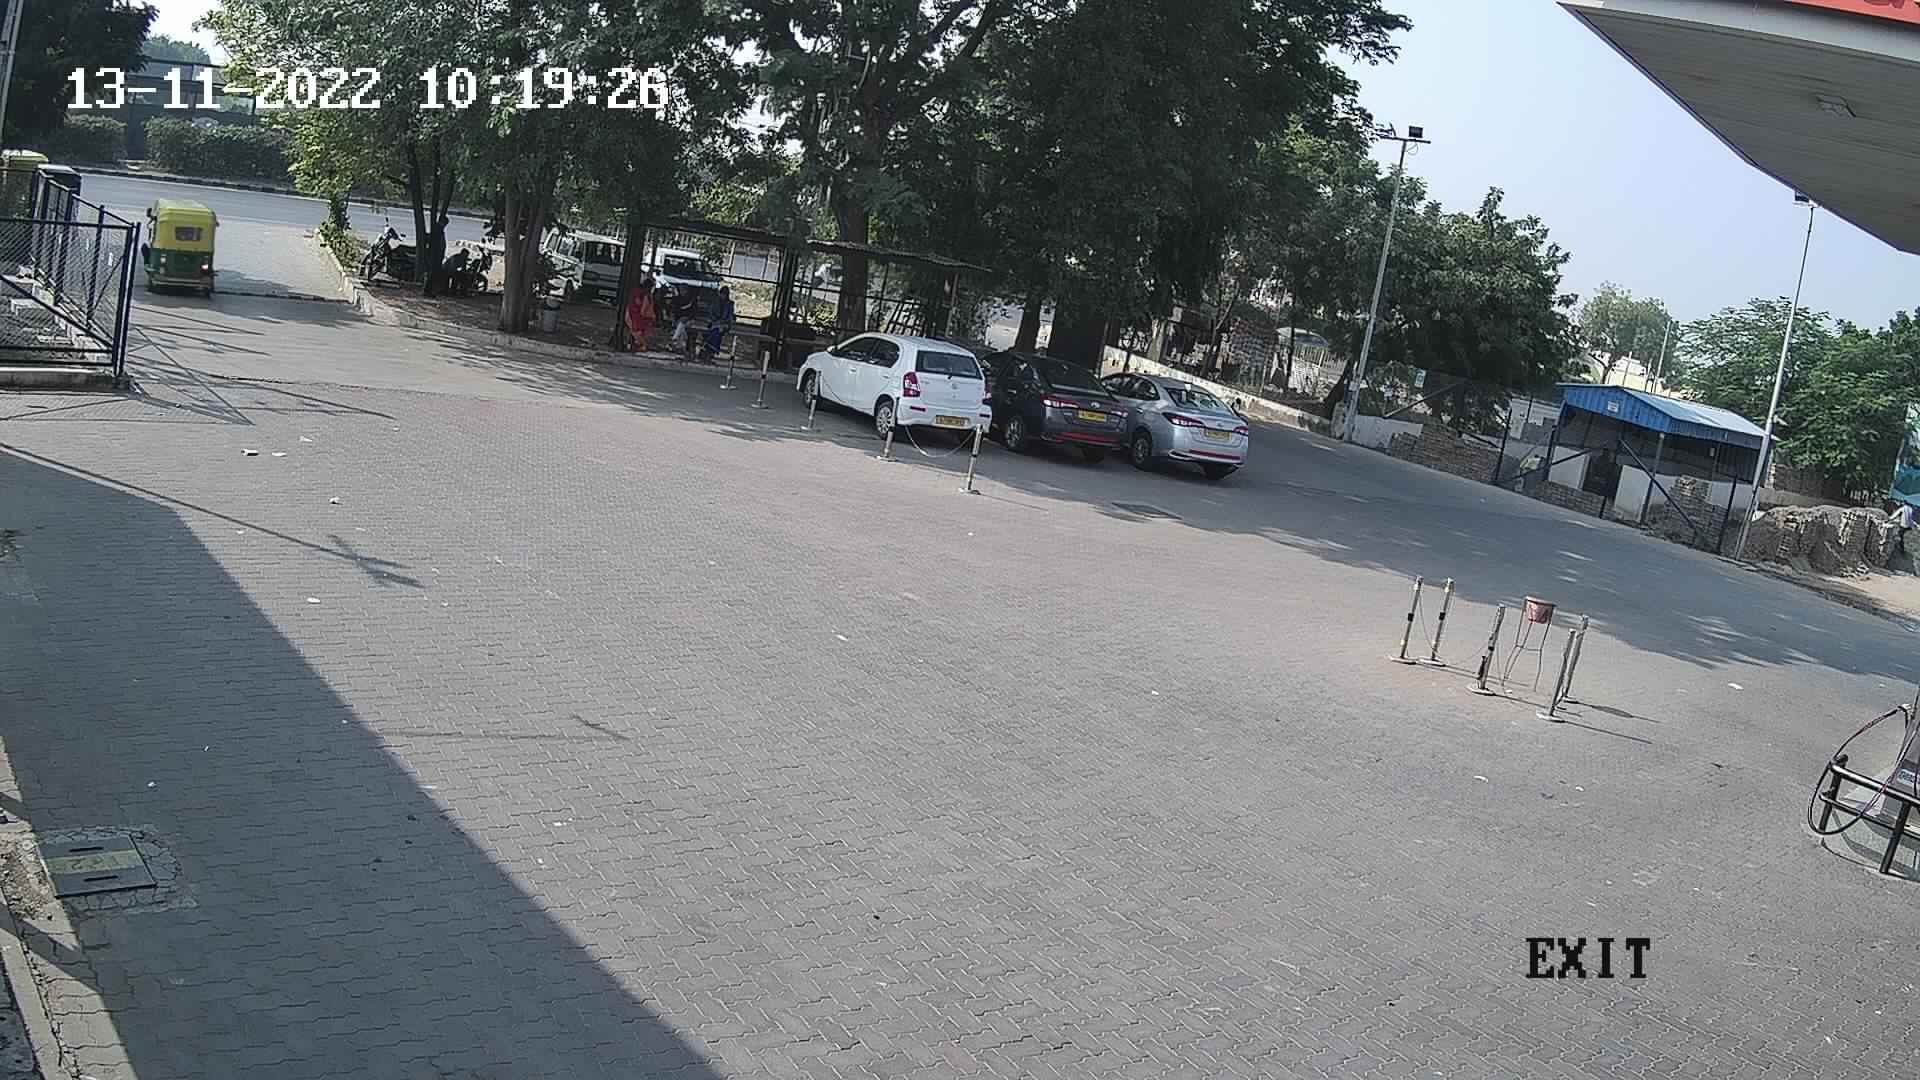Auto: (132, 193, 229, 306), (11, 158, 92, 233), (1, 135, 53, 233)
Bike: (351, 204, 422, 290), (450, 236, 502, 301)
Car: (782, 320, 1004, 458), (967, 340, 1138, 473), (1092, 363, 1259, 491), (632, 236, 742, 328), (529, 218, 634, 301)
